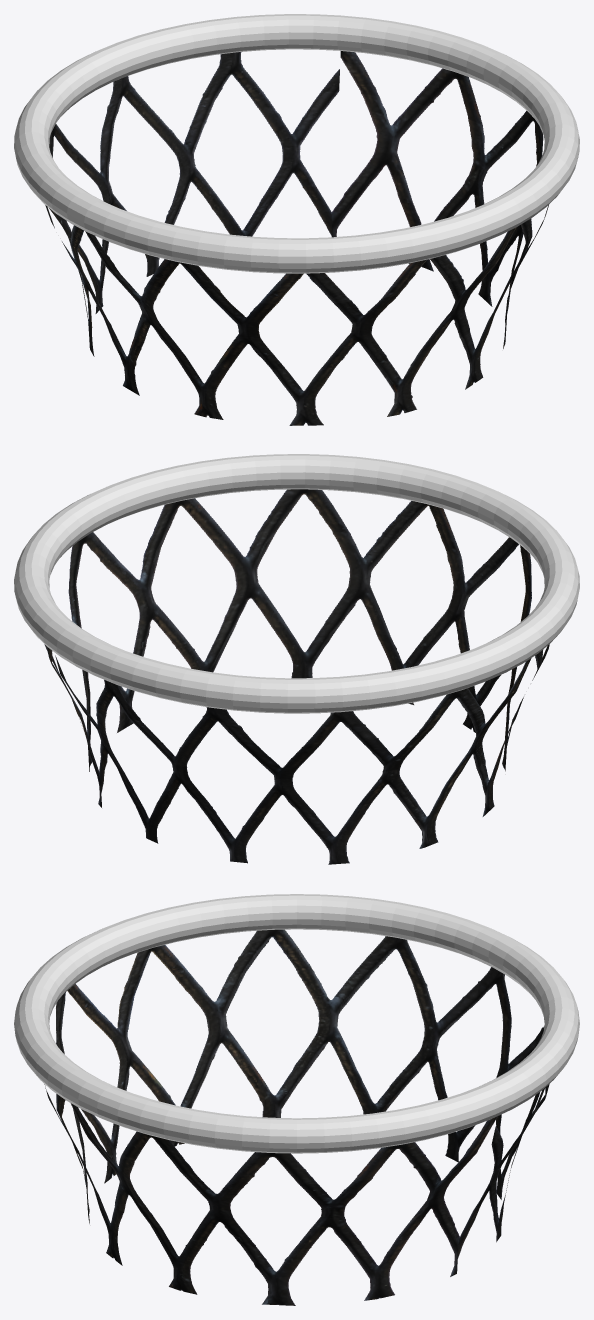
The model's file is hoop.fbx.
The picture shows the model from 3 angles, top to bottom: view 1: azimuth 30°, elevation 25°; view 2: azimuth 150°, elevation 25°; view 3: azimuth 270°, elevation 25°; orthographic projection.
Parts seen in each view (by area): view 1: Torus.001; view 2: Torus.001; view 3: Torus.001.
Part boxes in pixels (bbox=[...]): Torus.001: bbox=[14, 14, 579, 425]; Torus.001: bbox=[14, 454, 579, 864]; Torus.001: bbox=[14, 894, 579, 1305].
Size of the model in its own units: 160 by 65.49 by 160.
